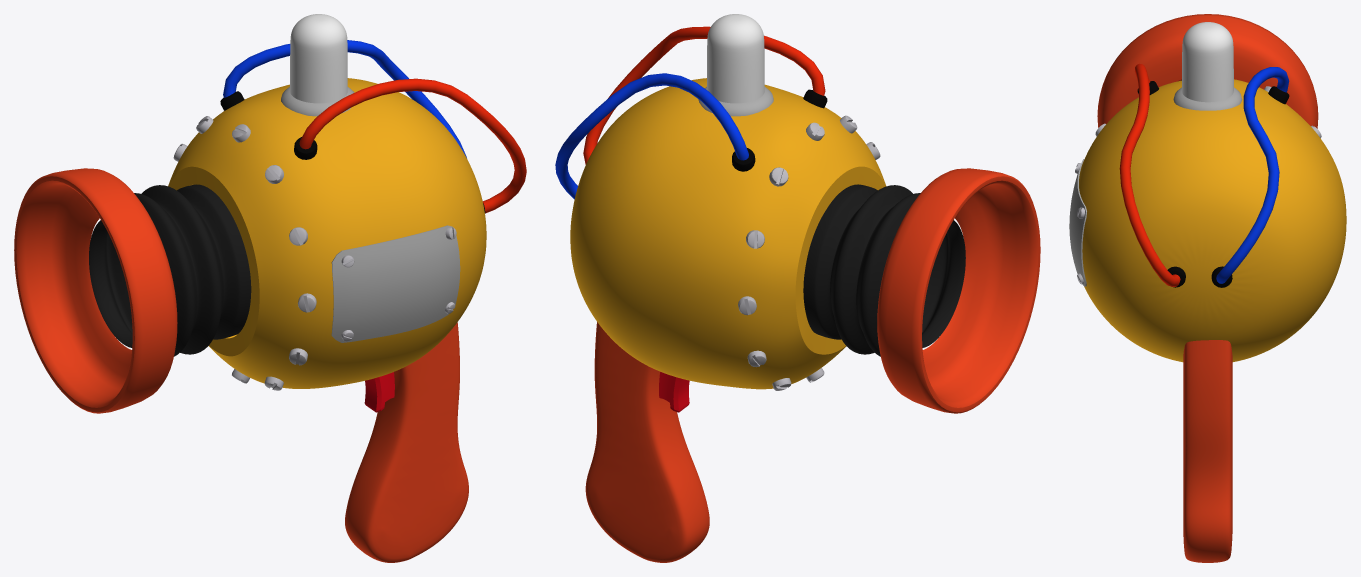
File: Sketchfab_2020_09_20_21_38_13.fbx
3 views of the same model, side by side, from view 1: azimuth 30°, elevation 25°; view 2: azimuth 150°, elevation 25°; view 3: azimuth 270°, elevation 25° (orthographic). The views are drawn at different scales.
Parts seen in each view (by area): view 1: Sphère, Cylindre.001, Cube, Cylindre, Plan, Cylindre.008, CourbeBézier, CourbeBézier.001, Cylindre.002, Cube.001, Cylindre.007; view 2: Sphère, Cylindre.001, Cube, Cylindre, Cylindre.008, CourbeBézier.001, CourbeBézier, Cylindre.002, Cube.001, Cylindre.007; view 3: Sphère, Cube, Cylindre.001, Cylindre.008, CourbeBézier.001, CourbeBézier, Plan, Cylindre.007.
Boxes of the visible parts, x1=… form: Sphère: x1=168, y1=78, x2=486, y2=388; Cylindre.001: x1=14, y1=168, x2=177, y2=413; Cube: x1=345, y1=322, x2=468, y2=562; Cylindre: x1=89, y1=184, x2=251, y2=356; Plan: x1=331, y1=225, x2=460, y2=342; Cylindre.008: x1=290, y1=14, x2=347, y2=103; CourbeBézier: x1=299, y1=78, x2=526, y2=213; CourbeBézier.001: x1=223, y1=40, x2=466, y2=157; Cylindre.002: x1=173, y1=116, x2=316, y2=390; Cube.001: x1=364, y1=372, x2=394, y2=412; Cylindre.007: x1=281, y1=87, x2=354, y2=116; Sphère: x1=570, y1=78, x2=886, y2=389; Cylindre.001: x1=877, y1=168, x2=1040, y2=413; Cube: x1=585, y1=322, x2=709, y2=562; Cylindre: x1=803, y1=184, x2=965, y2=356; Cylindre.008: x1=707, y1=14, x2=764, y2=103; CourbeBézier.001: x1=555, y1=73, x2=748, y2=199; CourbeBézier: x1=583, y1=26, x2=825, y2=164; Cylindre.002: x1=738, y1=115, x2=880, y2=390; Cube.001: x1=659, y1=372, x2=689, y2=412; Cylindre.007: x1=698, y1=87, x2=773, y2=116; Sphère: x1=1079, y1=79, x2=1346, y2=362; Cube: x1=1183, y1=340, x2=1232, y2=562; Cylindre.001: x1=1097, y1=14, x2=1318, y2=128; Cylindre.008: x1=1182, y1=22, x2=1233, y2=102; CourbeBézier.001: x1=1216, y1=67, x2=1289, y2=283; CourbeBézier: x1=1119, y1=63, x2=1180, y2=286; Plan: x1=1069, y1=159, x2=1086, y2=286; Cylindre.007: x1=1173, y1=87, x2=1242, y2=110.
Bounding box in the file's own units: 317 × 399 × 201.
